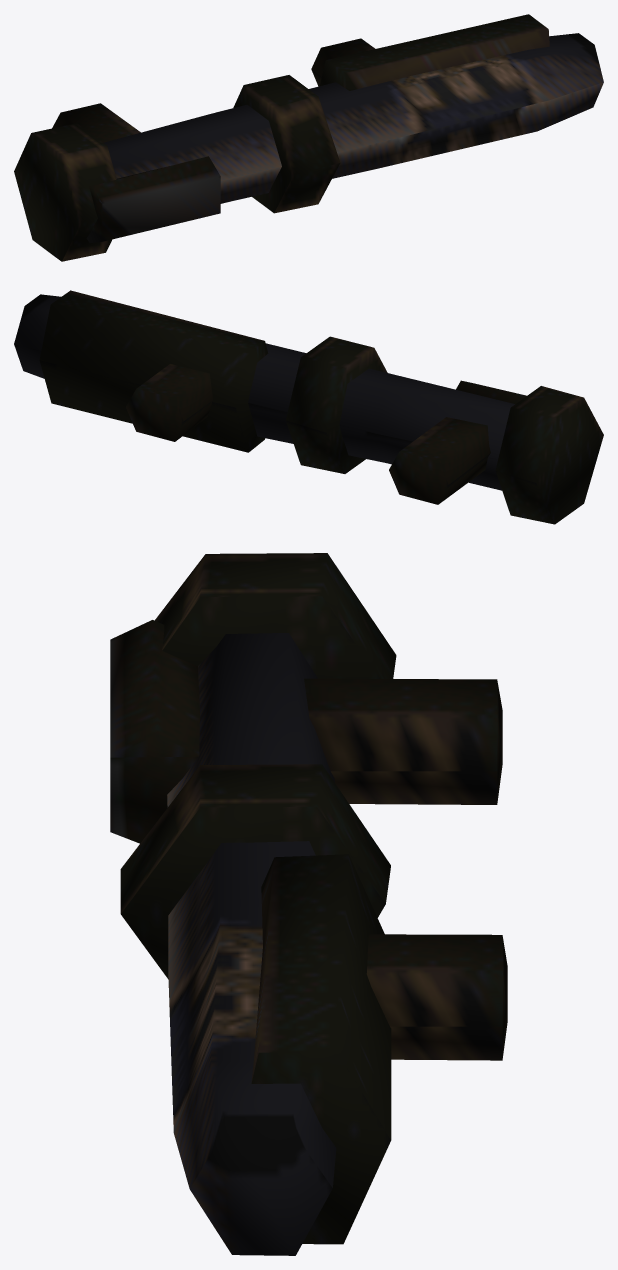
The model's file is g_rock.gltf.
3 views of the same model, one above another, from view 1: azimuth 30°, elevation 25°; view 2: azimuth 150°, elevation 25°; view 3: azimuth 270°, elevation 25° (orthographic). The views are drawn at different scales.
Visible parts, largest first — view 1: mesh0_noesis_meshnode_0000; view 2: mesh0_noesis_meshnode_0000; view 3: mesh0_noesis_meshnode_0000.
Boxes of the visible parts, x1,y1,x2,y2 form: mesh0_noesis_meshnode_0000: (14,14,603,261); mesh0_noesis_meshnode_0000: (14,290,603,524); mesh0_noesis_meshnode_0000: (110,553,507,1255).
Size of the model in its own units: 30.79 by 6.03 by 9.85.
1 material, 1 textured.
